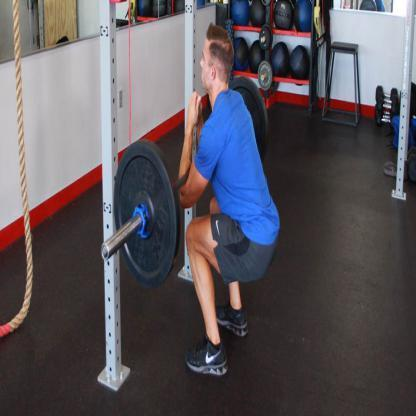barbell: (101, 72, 275, 290)
